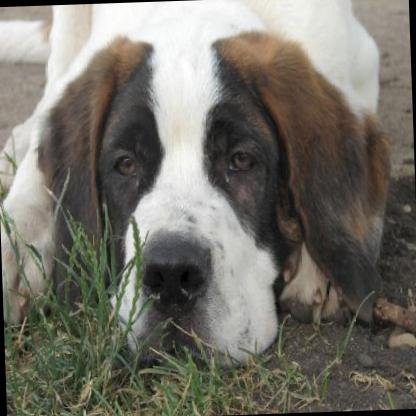Saint_Bernard: (0, 0, 402, 373)
